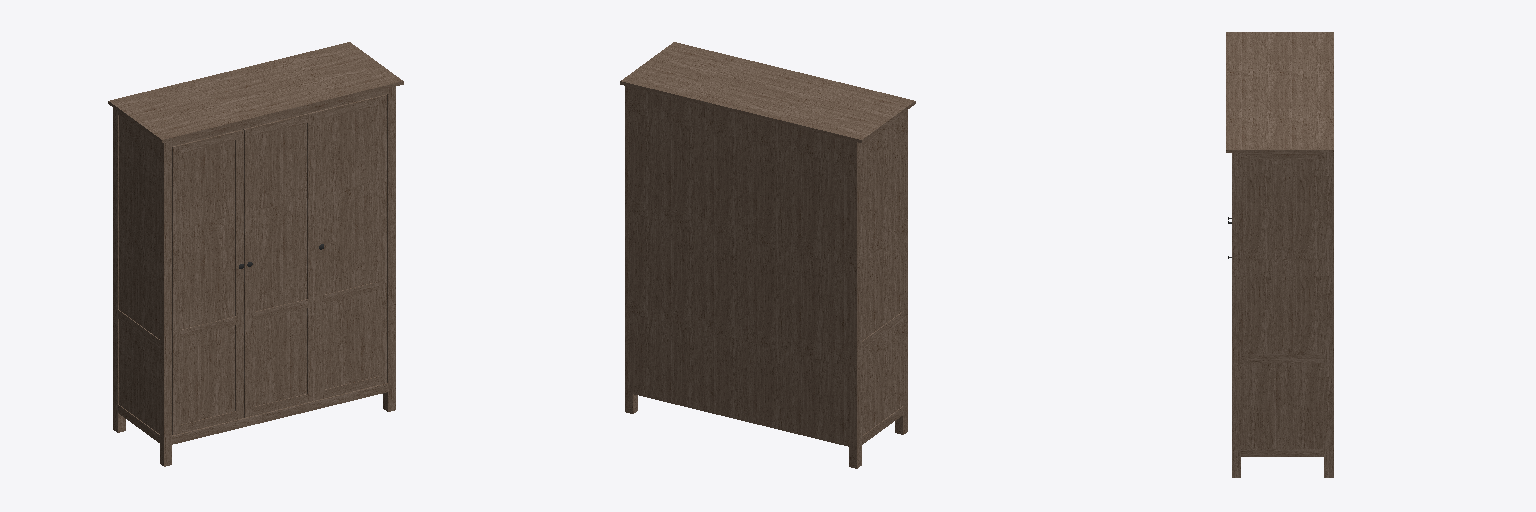
The picture shows the model from 3 angles: view 1: azimuth 30°, elevation 25°; view 2: azimuth 150°, elevation 25°; view 3: azimuth 270°, elevation 25°; orthographic projection.
Parts seen in each view (by area): view 1: Mesh1 Group1 Model, Mesh5 Component_10_2 Model, Mesh3 Component_10_1 Model, Mesh7 Component_10_3 Model; view 2: Mesh1 Group1 Model; view 3: Mesh1 Group1 Model.
Boxes of the visible parts, x1=… form: Mesh1 Group1 Model: x1=108, y1=42, x2=403, y2=466; Mesh5 Component_10_2 Model: x1=243, y1=112, x2=315, y2=417; Mesh3 Component_10_1 Model: x1=172, y1=130, x2=243, y2=434; Mesh7 Component_10_3 Model: x1=316, y1=94, x2=386, y2=399; Mesh1 Group1 Model: x1=620, y1=42, x2=915, y2=468; Mesh1 Group1 Model: x1=1226, y1=32, x2=1333, y2=477.
Bounding box in the file's own units: 1506 × 1967 × 580.
Materials: 2 (1 with a texture image).